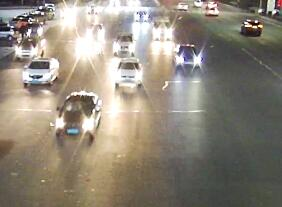car: (55, 90, 103, 139), (21, 54, 60, 85), (113, 56, 144, 88), (15, 33, 47, 58), (172, 43, 203, 67), (112, 31, 136, 56), (151, 17, 172, 39), (10, 14, 35, 30), (26, 19, 44, 38), (88, 20, 106, 38), (0, 23, 18, 41), (241, 17, 262, 32), (133, 6, 150, 21), (37, 6, 55, 19), (25, 9, 45, 19), (86, 6, 101, 18), (205, 5, 220, 16), (174, 1, 188, 11), (206, 1, 219, 9), (193, 0, 203, 7)
